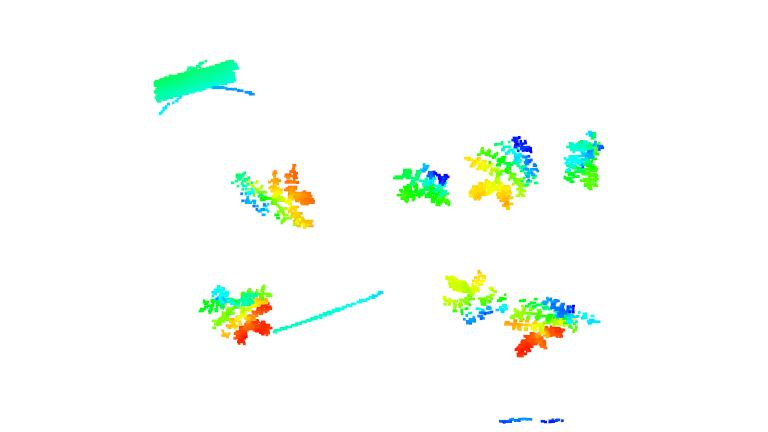chickpea: (235, 162, 319, 231), (504, 298, 600, 358), (466, 135, 542, 209), (196, 285, 276, 346), (443, 271, 509, 325), (392, 163, 452, 209), (562, 129, 606, 190)
